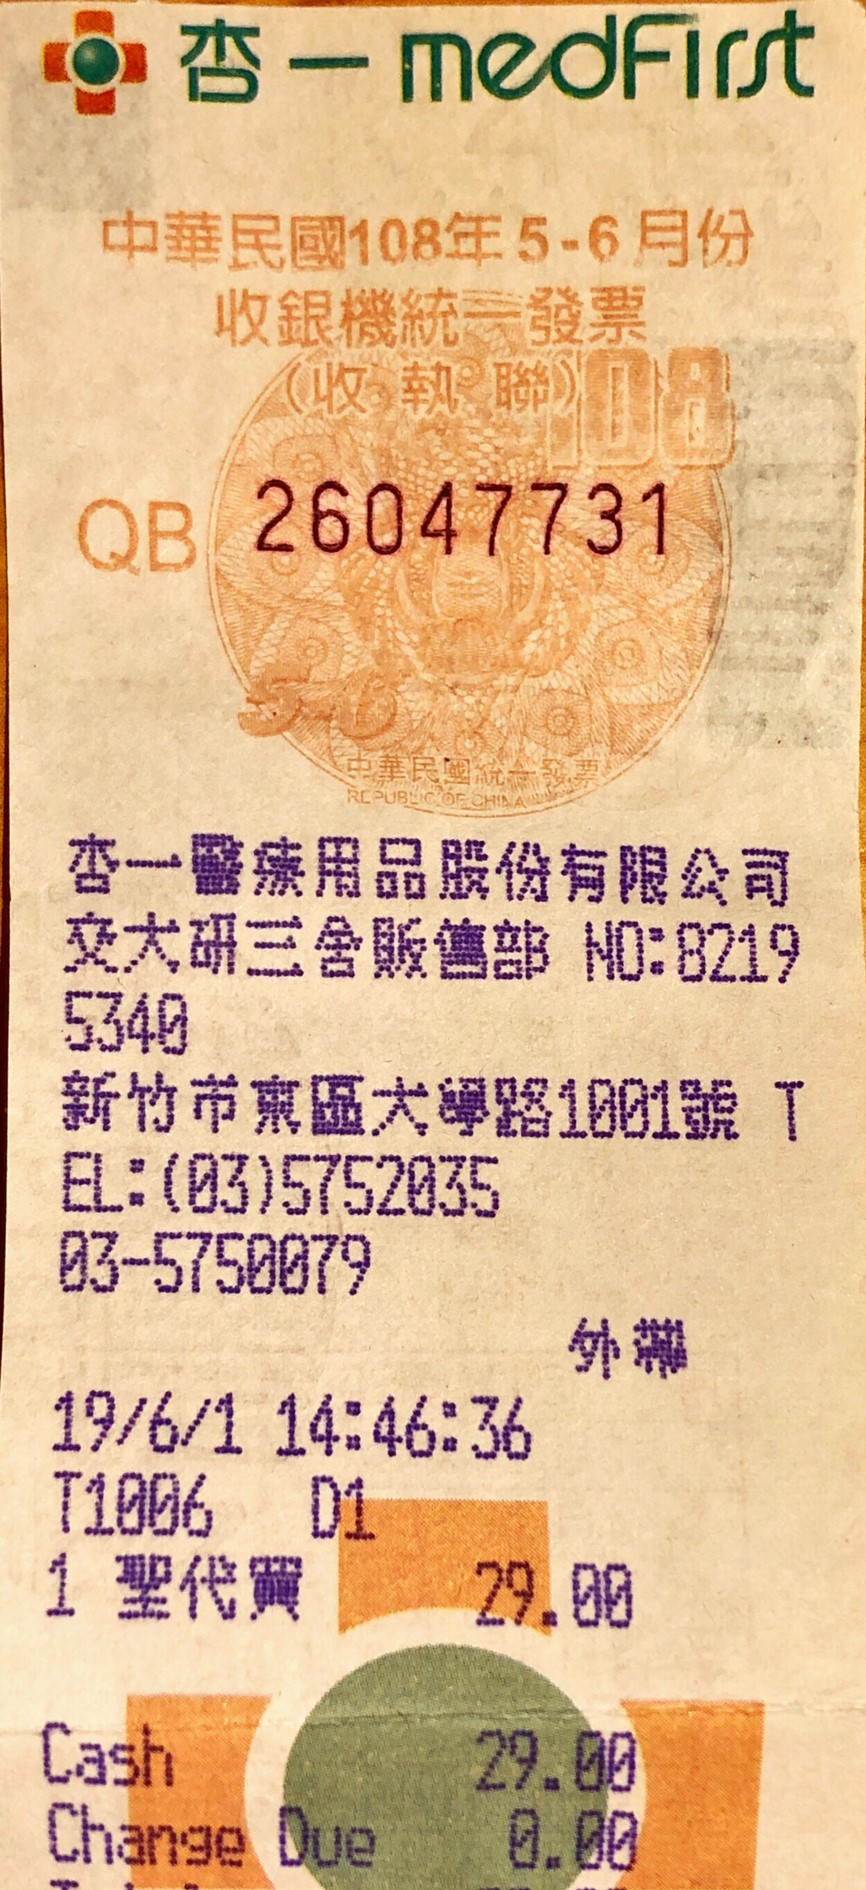Date_Old: (347, 207, 755, 274)
Number_Old: (242, 466, 674, 563)
